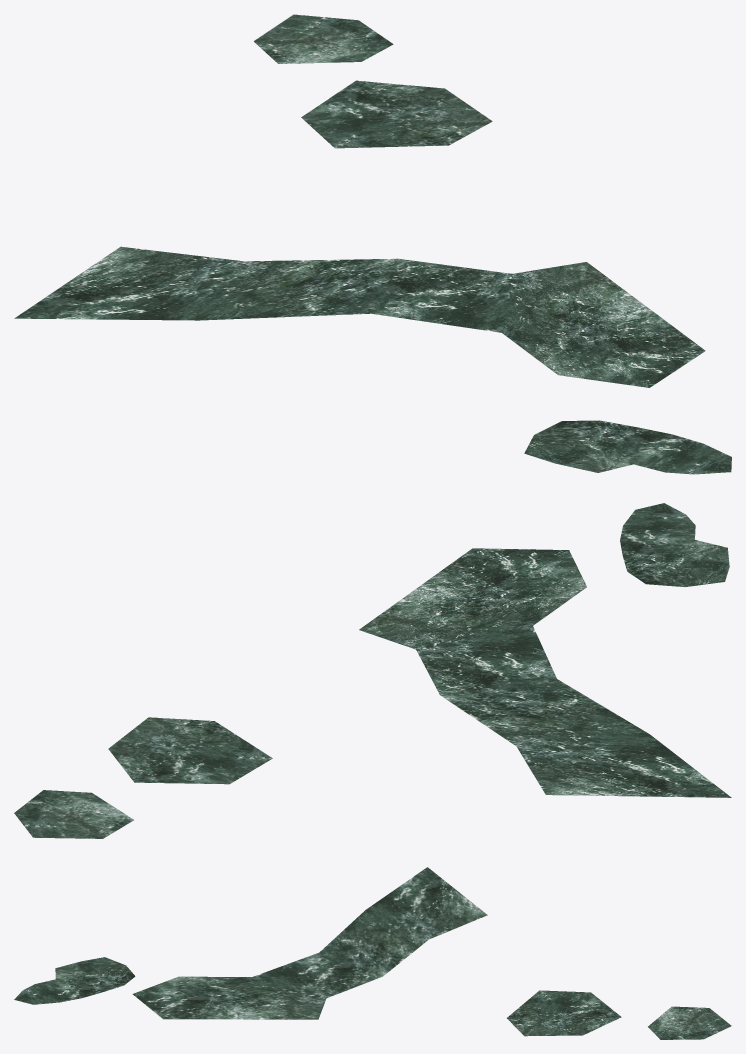
3 views of the same model, one above another, from view 1: azimuth 30°, elevation 25°; view 2: azimuth 150°, elevation 25°; view 3: azimuth 270°, elevation 25° (orthographic). The views are drawn at different scales.
Visible parts, largest first — view 1: w3; view 2: w3; view 3: w3.
Boxes of the visible parts, bbox=[...] form: w3: bbox=[14, 14, 731, 474]; w3: bbox=[14, 503, 731, 838]; w3: bbox=[14, 867, 731, 1039].
Bounding box in the file's own units: 7091 × 253 × 12238.
1 material, 1 textured.
